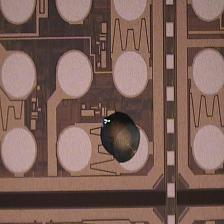PO CONTAMINATION: (94, 113, 146, 165)
